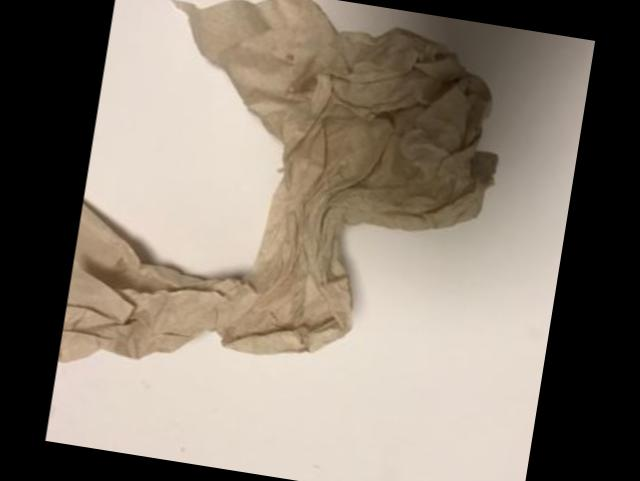cardboard paper: (57, 0, 494, 361)
